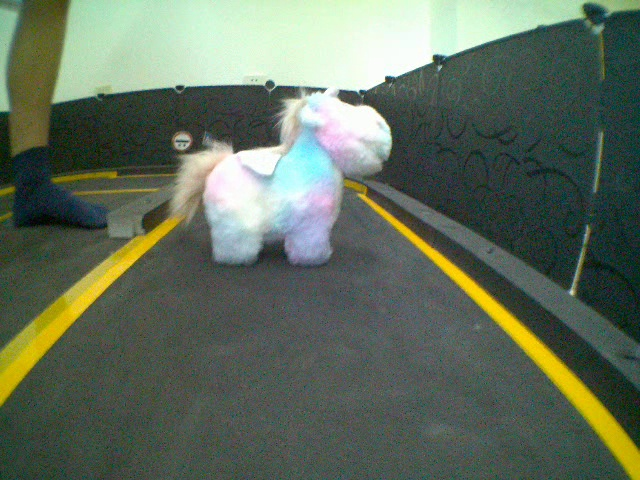unicorn: (170, 84, 395, 270)
